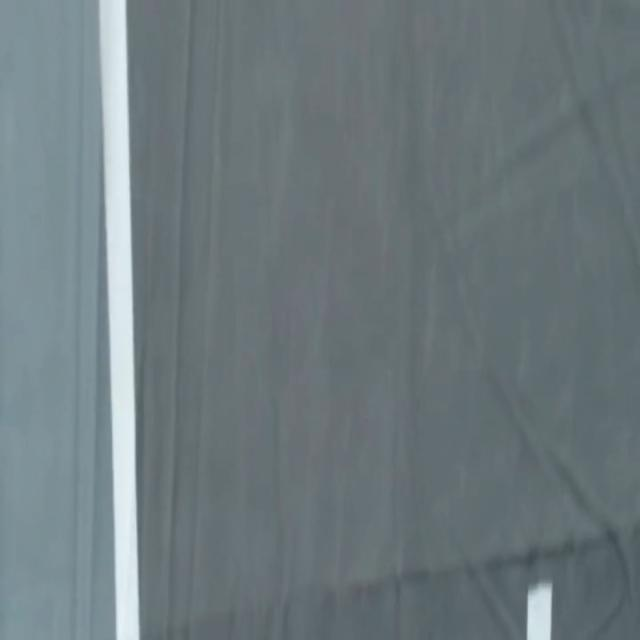center: (526, 582, 552, 639)
left: (99, 0, 139, 639)
